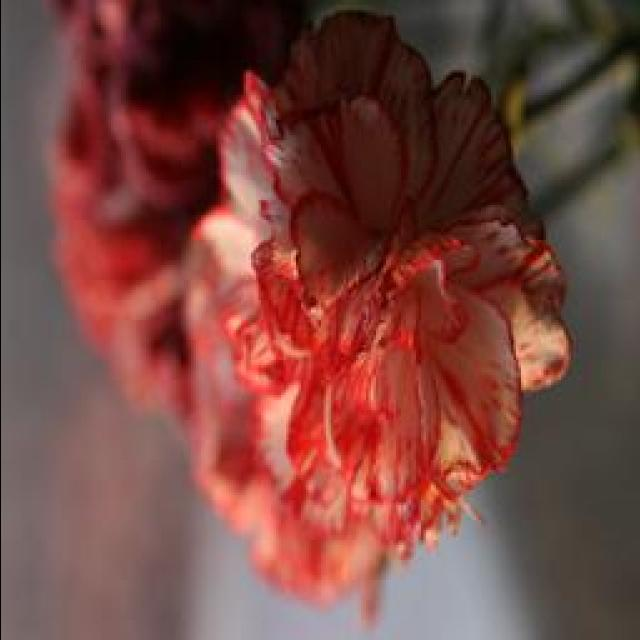carnation: (215, 29, 582, 581)
